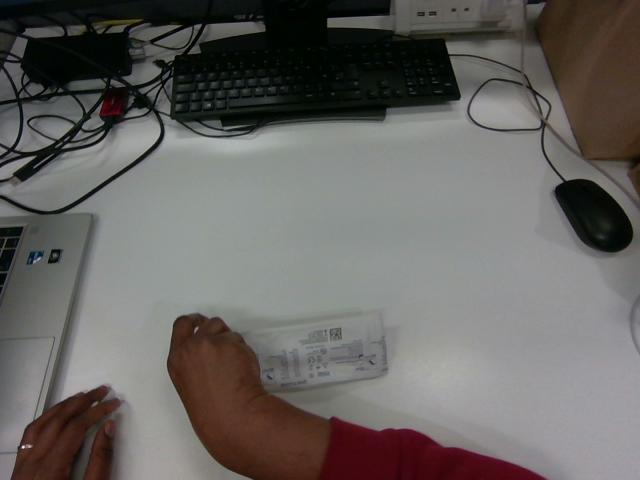syringe: (243, 312, 388, 391)
